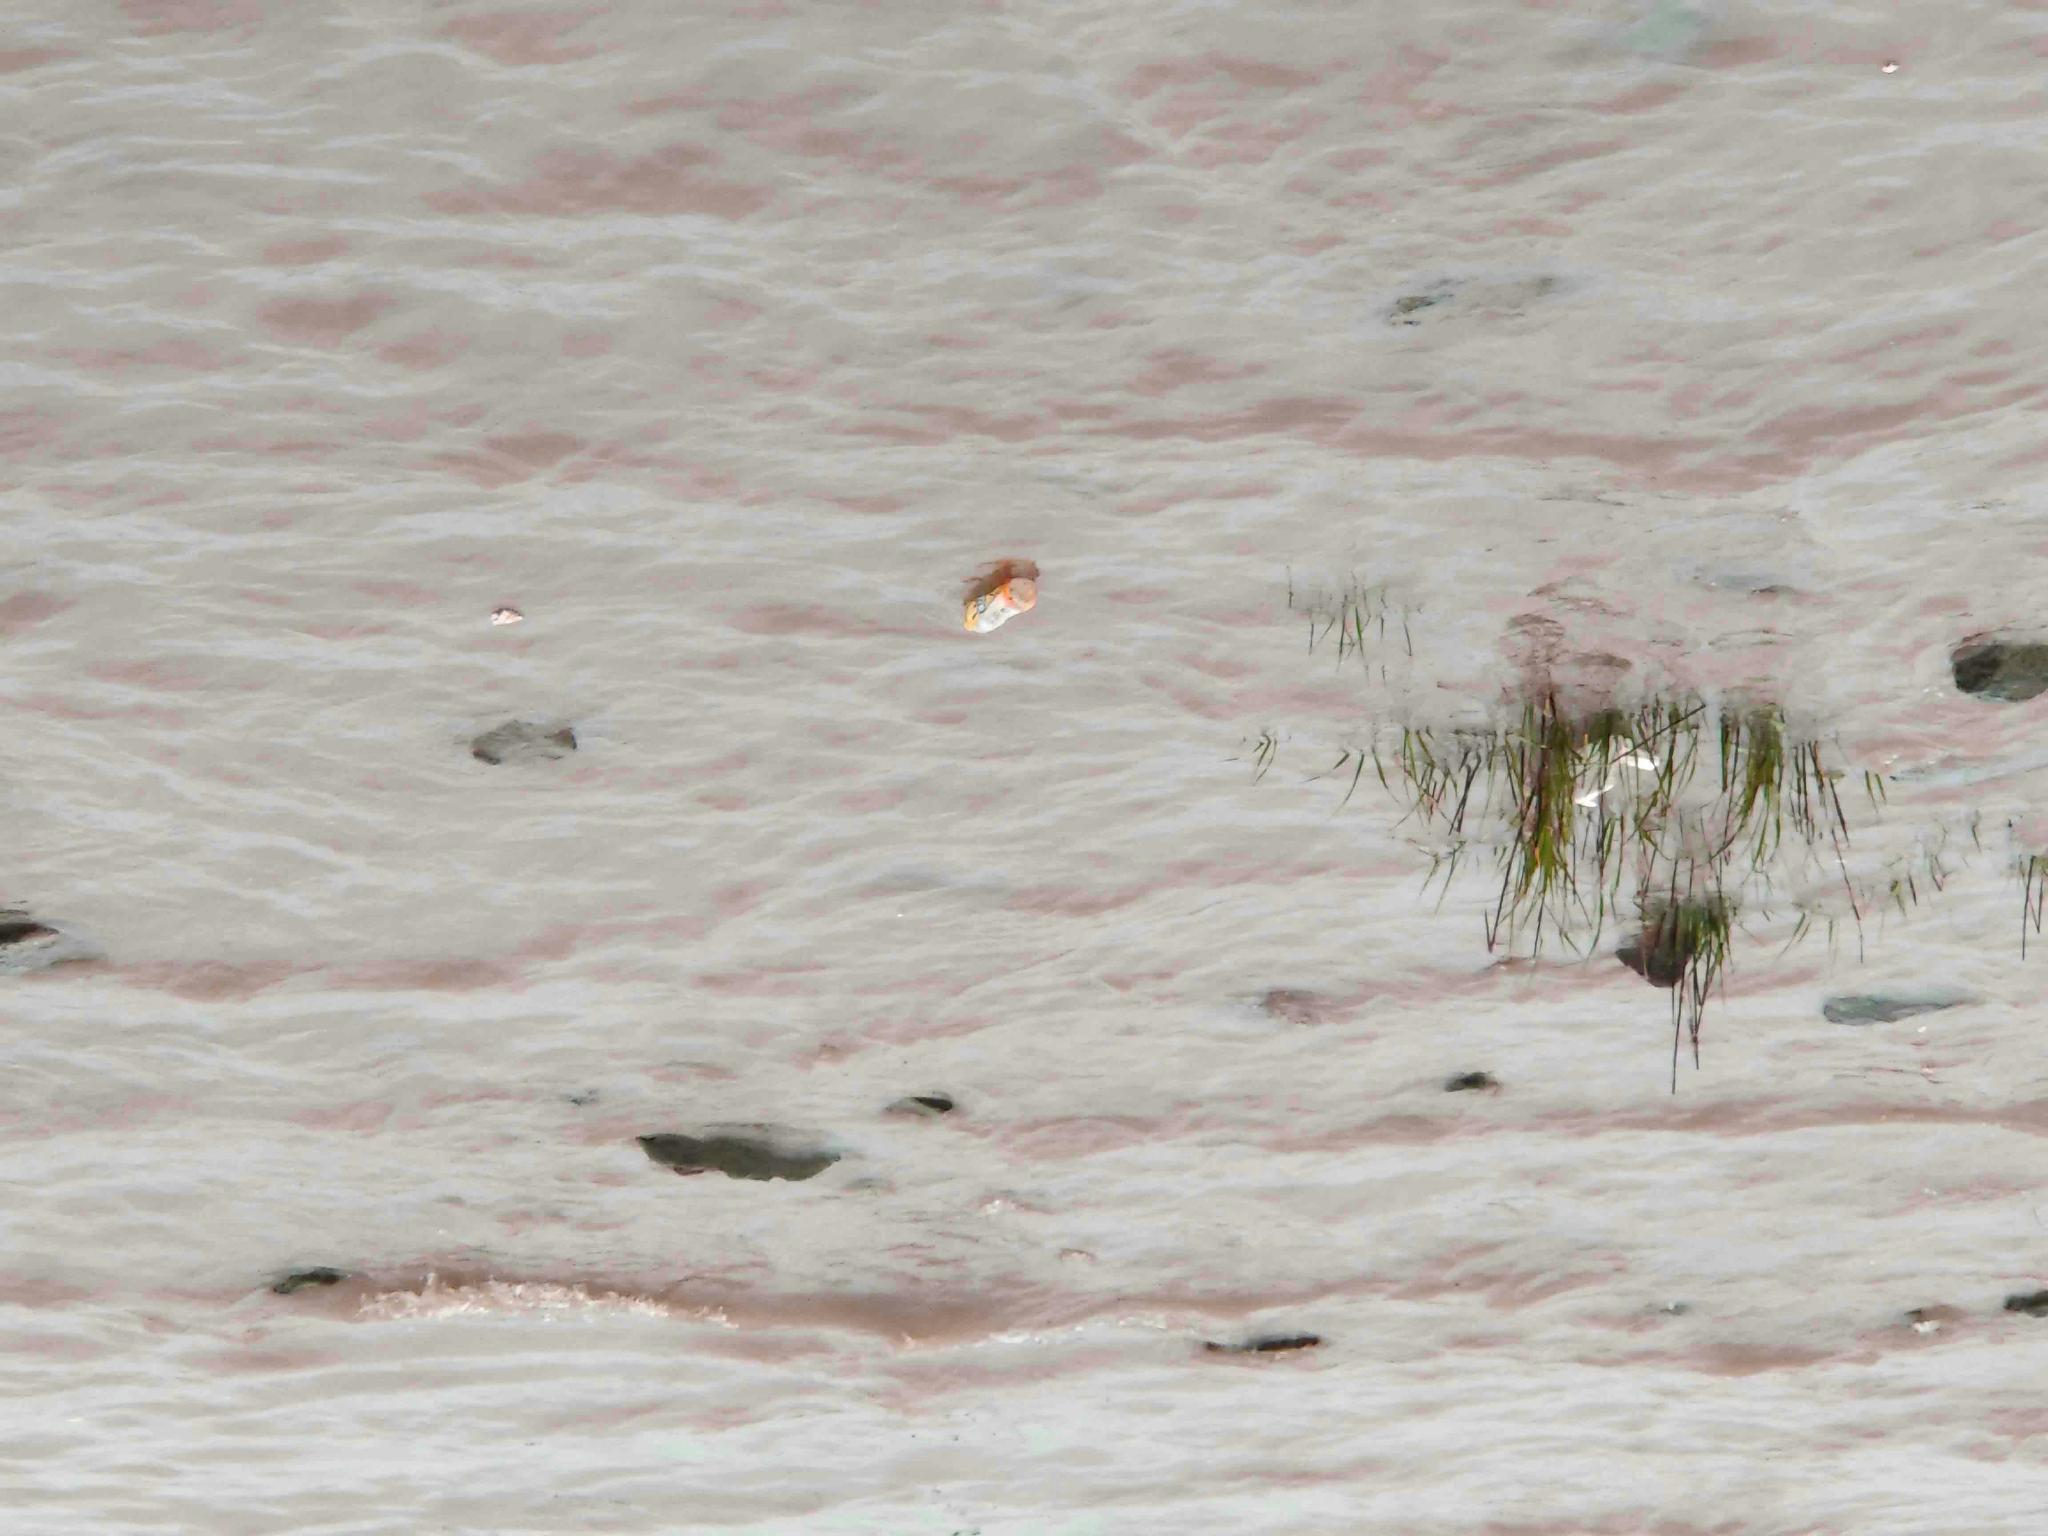Plastic: (961, 571, 1035, 639)
